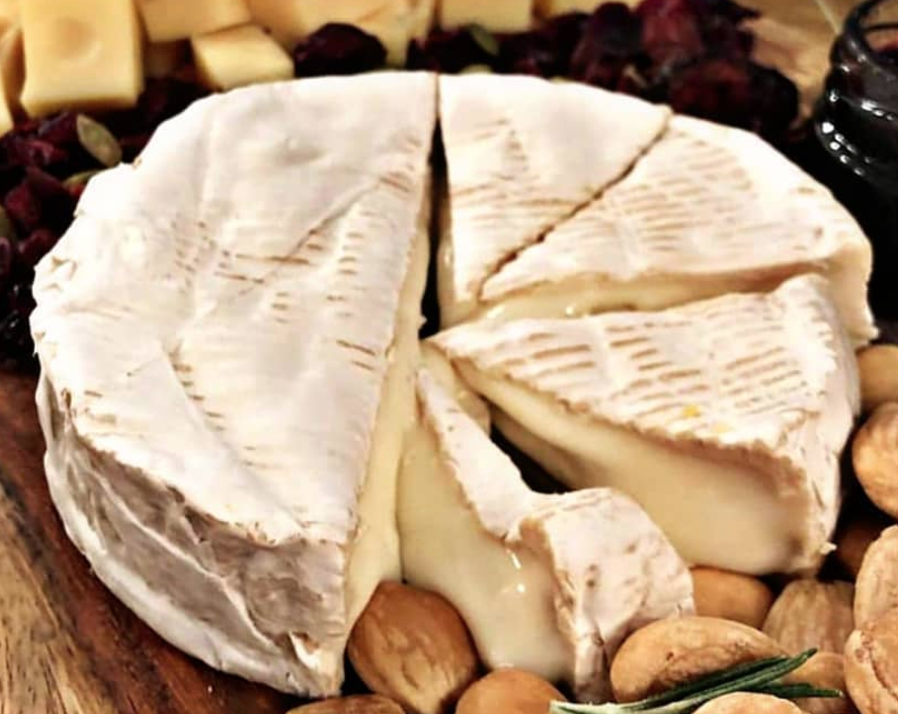camembert: (26, 68, 878, 700)
